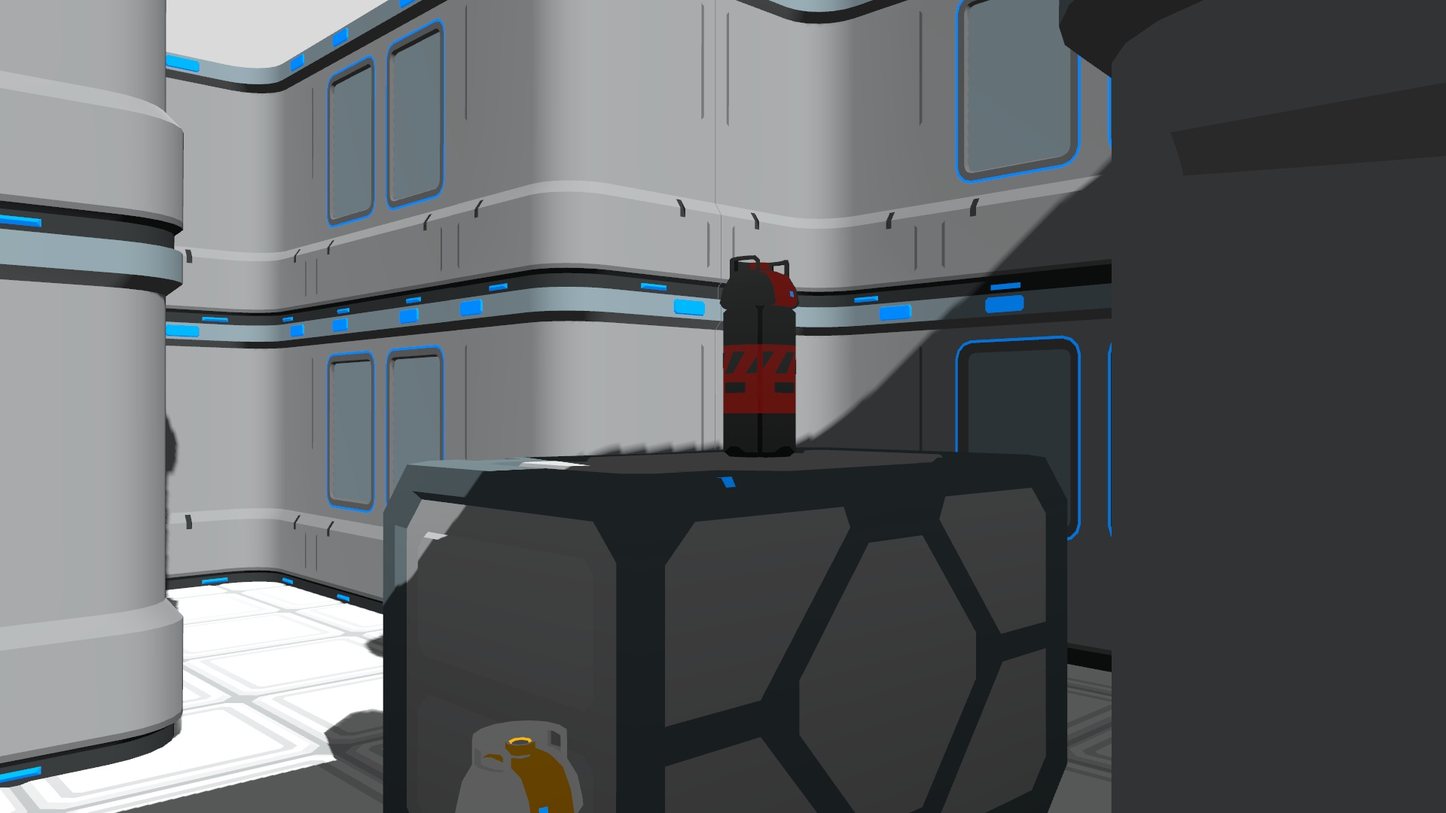red_barrel: (713, 248, 799, 462)
yellow_barrel: (446, 719, 587, 813)
